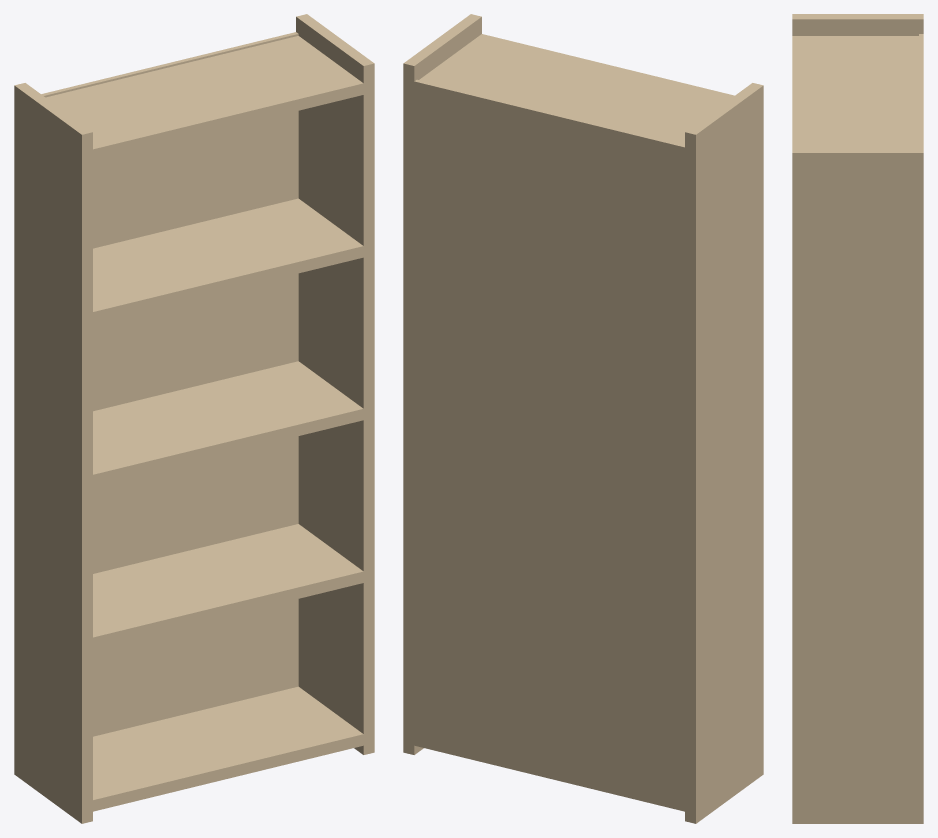
Rendered from shelf.glb.
3 views of the same model, side by side, from view 1: azimuth 30°, elevation 25°; view 2: azimuth 150°, elevation 25°; view 3: azimuth 270°, elevation 25° (orthographic). The views are drawn at different scales.
Parts seen in each view (by area): view 1: shelf; view 2: shelf; view 3: shelf.
Part boxes in pixels (bbox=[...]): shelf: bbox=[14, 14, 374, 823]; shelf: bbox=[403, 14, 763, 823]; shelf: bbox=[792, 14, 923, 823].
Size of the model in its own units: 0.8 by 1.8 by 0.32.
